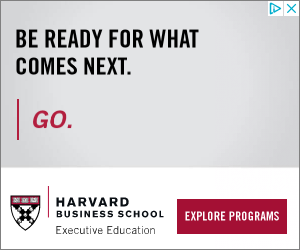fake_button: (173, 193, 289, 238)
